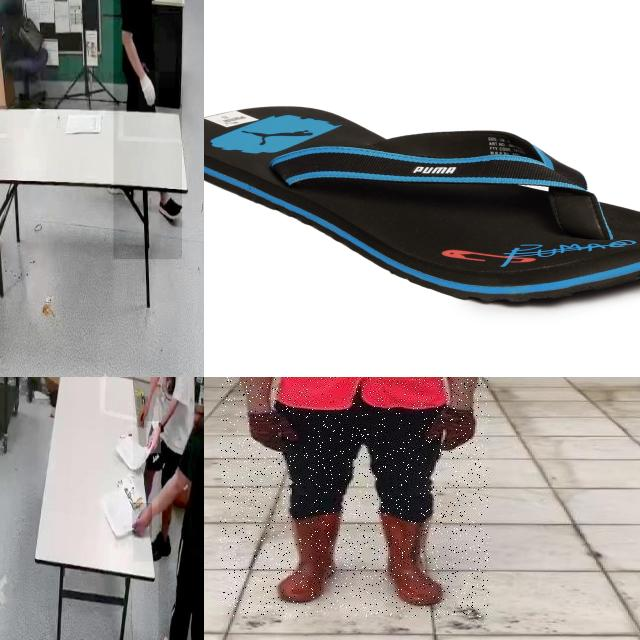Sandals: (204, 103, 640, 309)
boots: (377, 511, 443, 605), (278, 512, 342, 602)
hand_glove: (139, 70, 159, 115)
hand_noglove: (132, 503, 152, 539), (146, 421, 162, 454), (137, 396, 149, 428)
person: (220, 377, 489, 617), (113, 0, 182, 260), (158, 377, 204, 640), (133, 377, 188, 562)
shoes: (158, 191, 186, 223)
vest: (269, 377, 447, 409)
